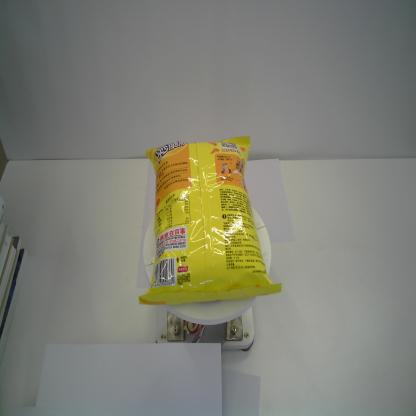Puffed Food: (136, 134, 284, 304)
